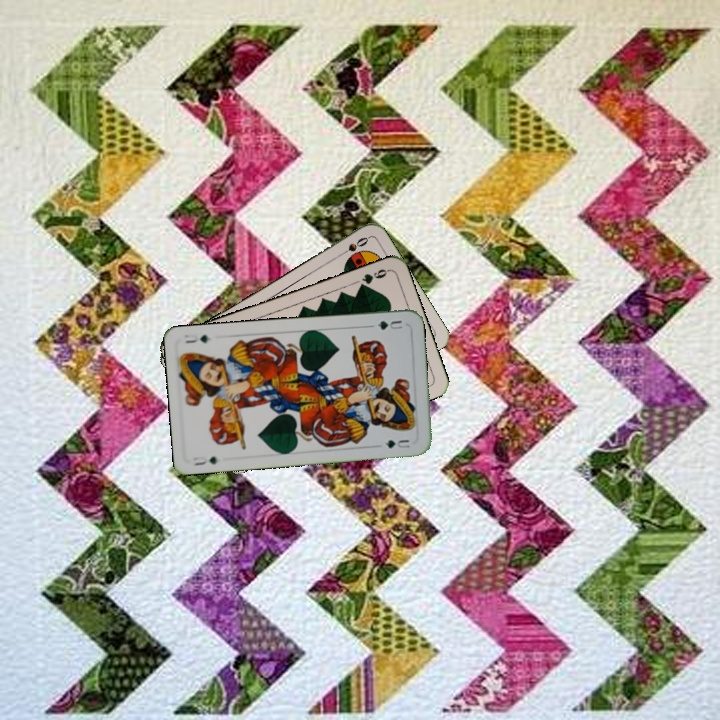G9: (355, 265, 392, 292)
GU: (373, 316, 405, 332), (189, 452, 220, 468)
SO: (334, 233, 371, 259)
